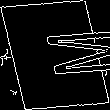M_W: (6, 29, 104, 81)
